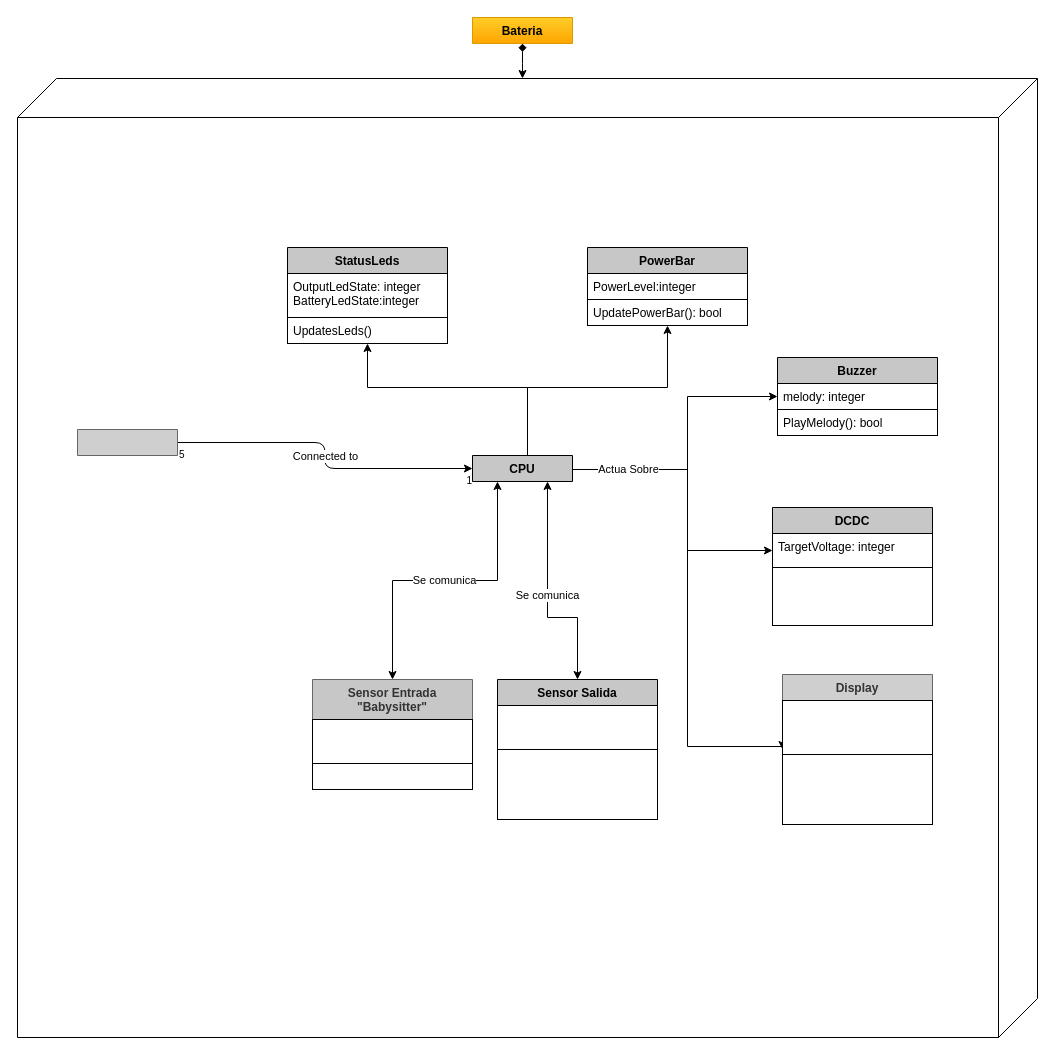
The diagram is 1055 pixels wide and 1055 high, and some of its shapes have lost their labels. Each missing label, with the centre of its shape:
BateryState: integer CapacityPercent: integer: the point at 392,741
Button: the point at 127,442
CheckBatt(): integer: the point at 392,776
CheckOut(): integer PowerProteccion() CurrrentProteccion() VoltageProteccion(): the point at 577,784
PrintVolt(): bool PrintText(): bool PrintIcon(): bool PrintCap(): bool: the point at 857,789
SetVoltage() Starting() CheckOut(): the point at 852,596
StateOut: integer VoltageOutput: integer: the point at 577,727
type: integer info: integer: the point at 857,727
